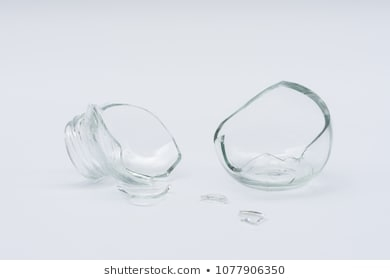glass: (208, 78, 342, 194), (58, 92, 186, 182), (111, 173, 173, 206), (236, 204, 269, 227)
